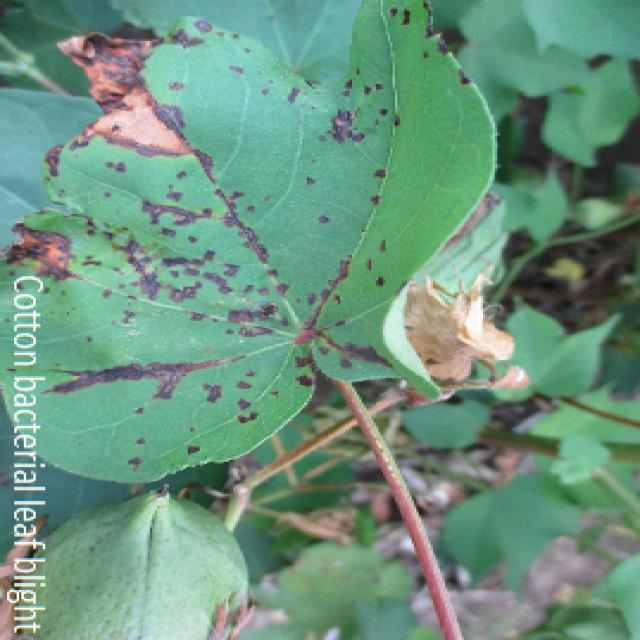Bacterial Blight: (60, 41, 357, 431)
